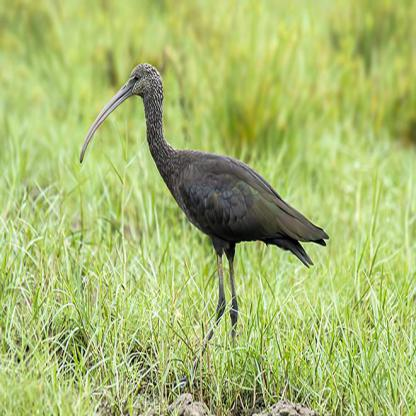Burung: (78, 63, 330, 380)
